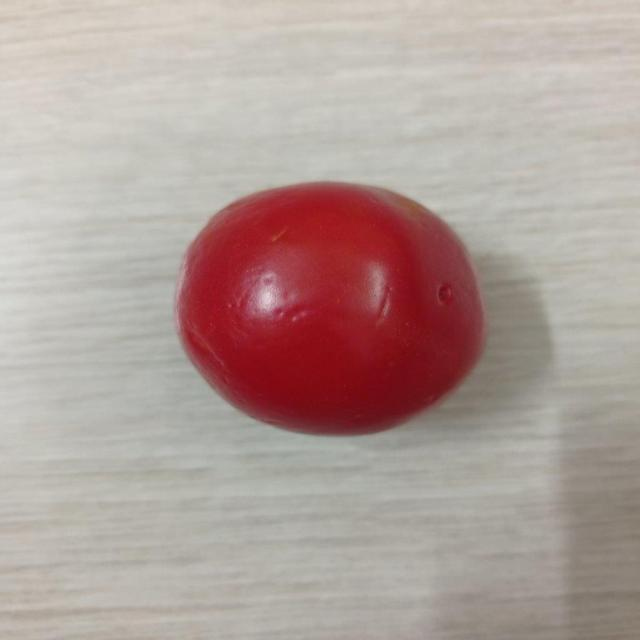Tomato: (170, 177, 491, 438)
